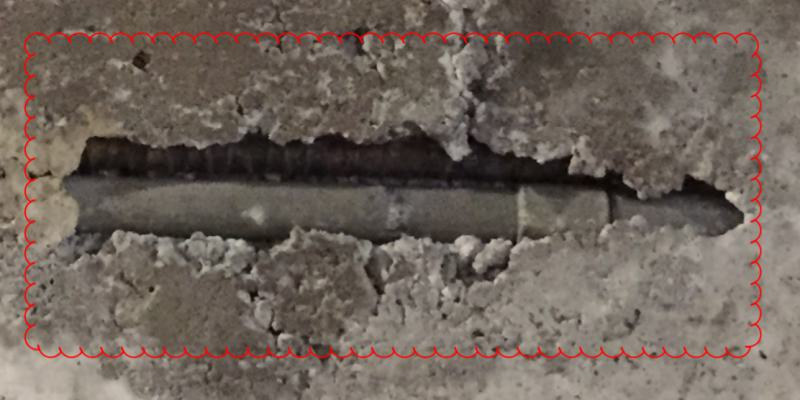Exposed reinforcement: (60, 170, 742, 240), (85, 134, 639, 192)
Spalling: (58, 118, 752, 295)
